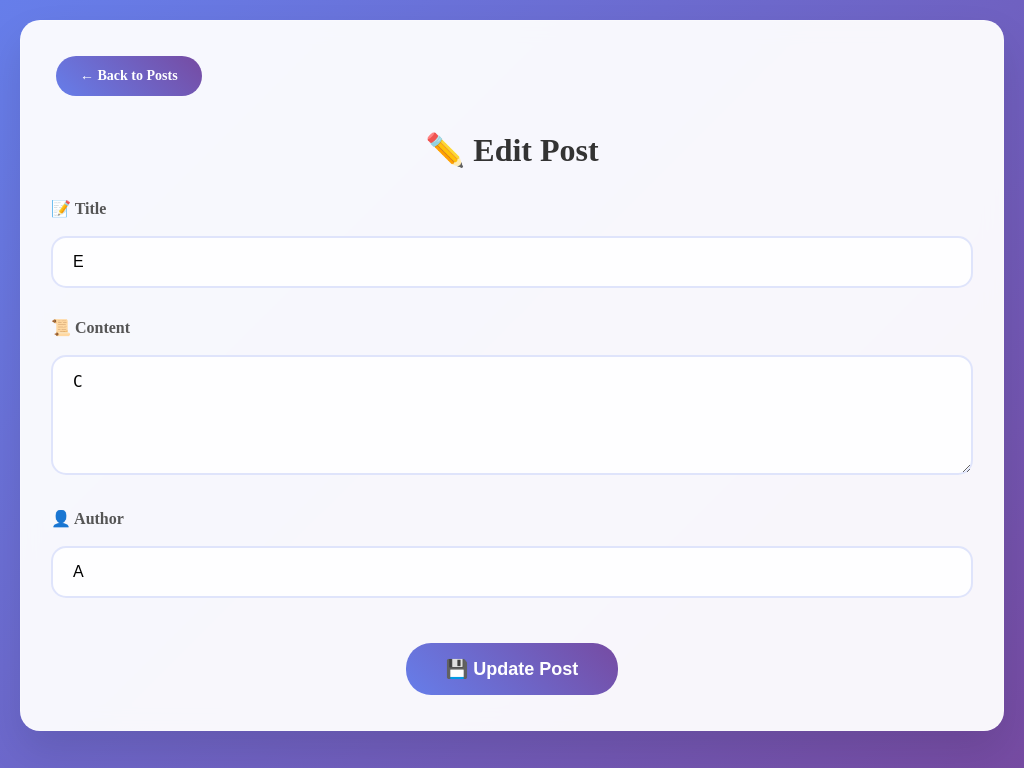
Scenario: Blog App Combined Tests › ErrorHandling_API error on update
Replace the text in the field with test id "title-input" with "Bad Title" at (512,262), box [51, 236, 973, 288]
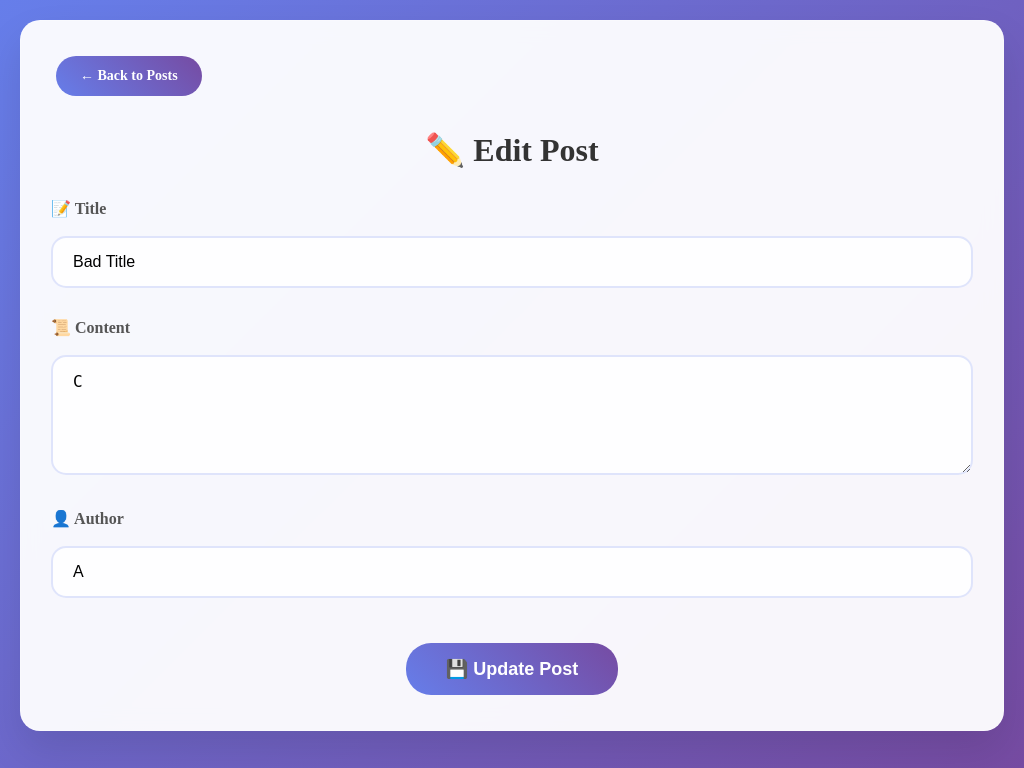
Click the button "💾 Update Post" at (512,669), box [406, 643, 618, 695]
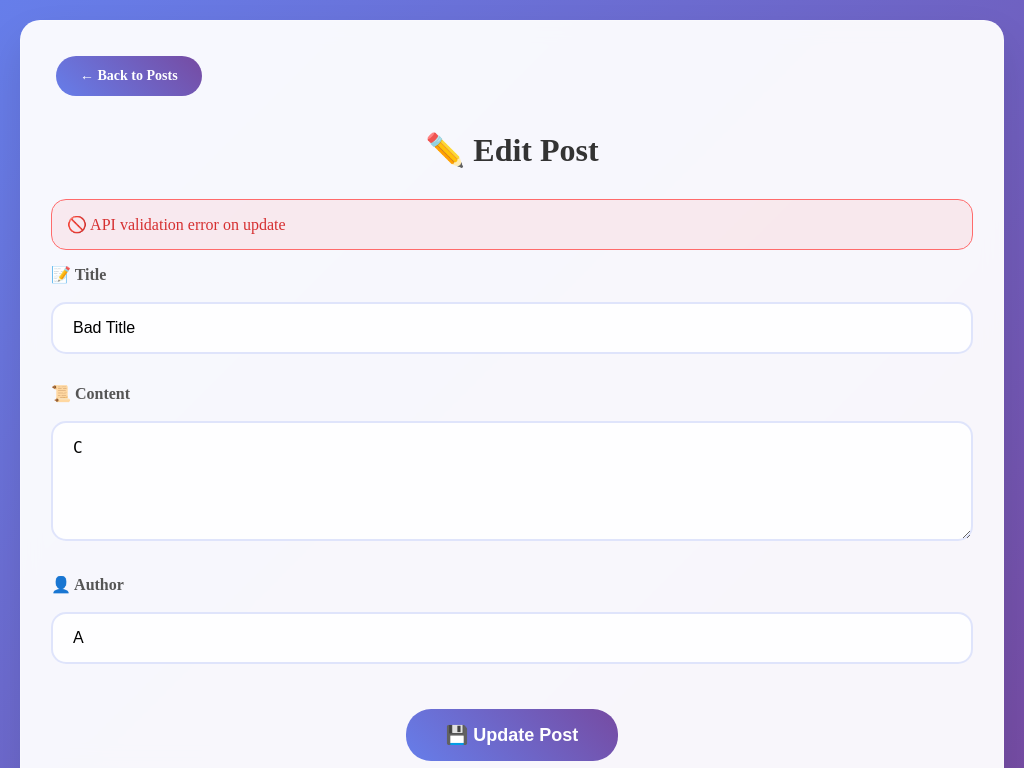
Check: the text "🚫 API validation error on update" is shown, box [51, 199, 973, 250]
